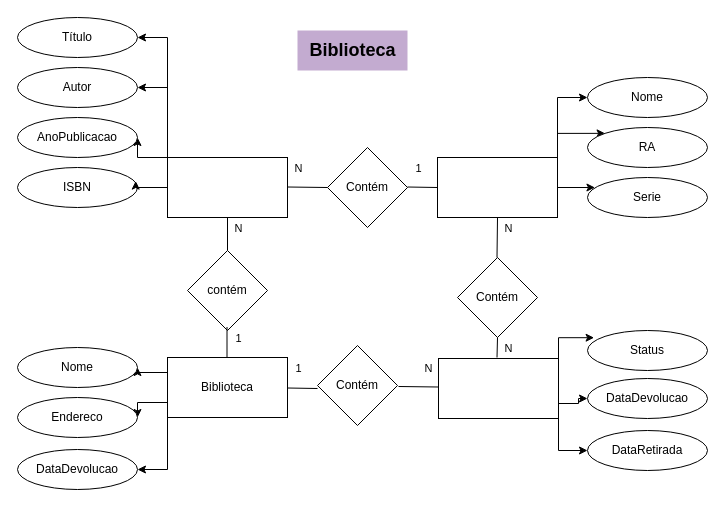
This 725x507 diagram has some shape labels left out. The box of each missing label's shape, as (x1, y1, x2, y2) in pixels:
ALUNOS: (436, 156, 558, 218)
Emprestimo: (438, 358, 558, 418)
LIVRO: (166, 156, 288, 218)
